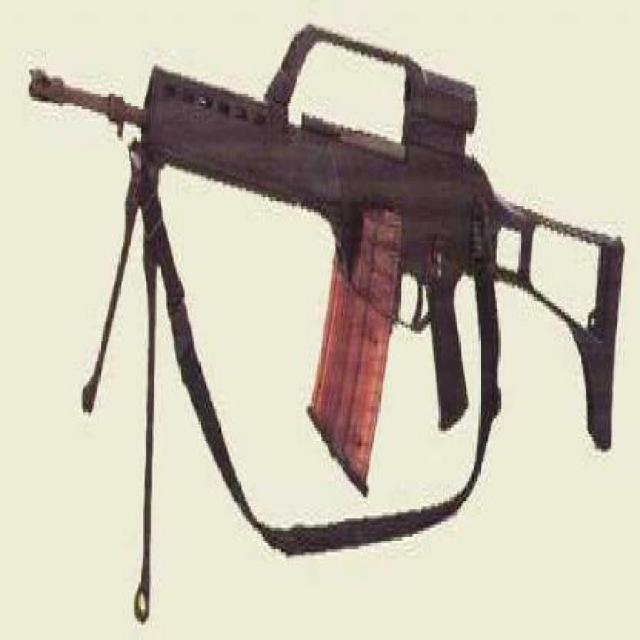weapon: (34, 17, 616, 488)
